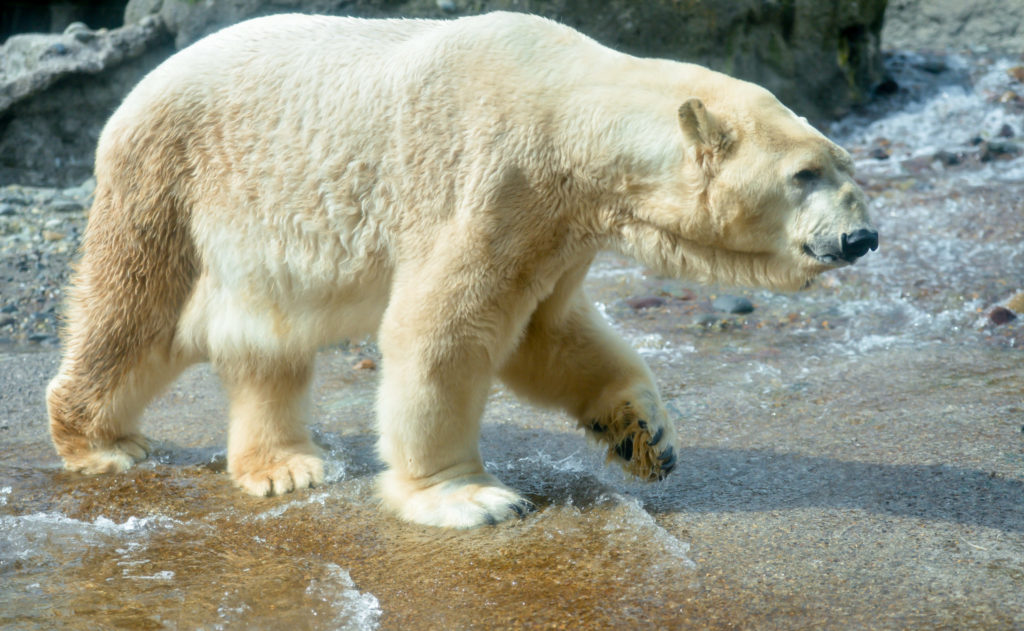Polar Bear: (37, 8, 909, 539)
